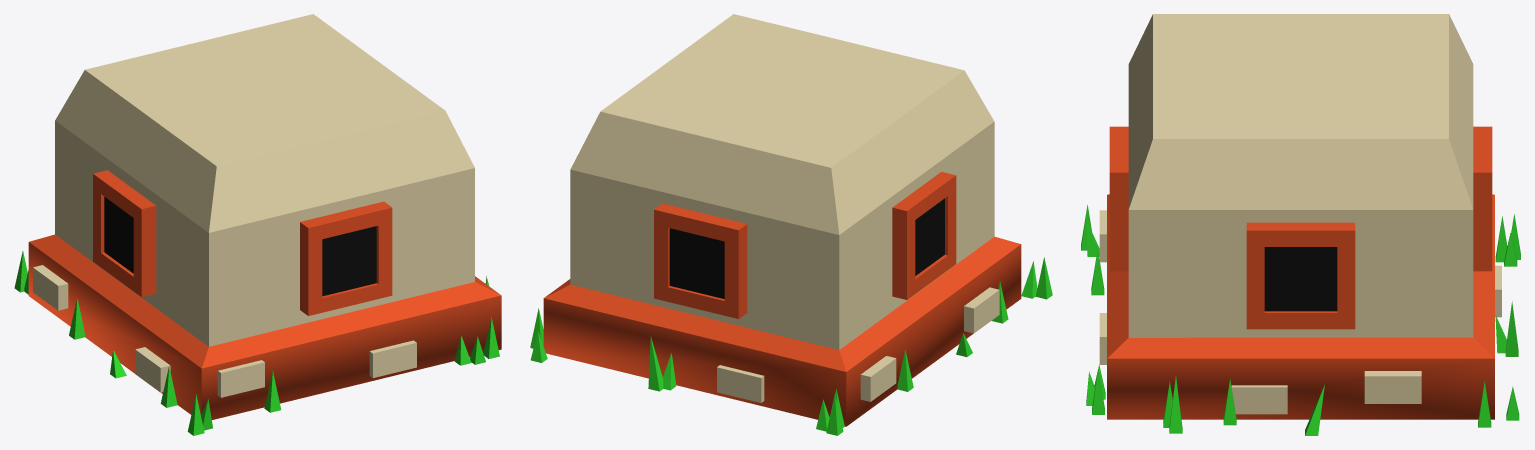
Rendered from tower base.fbx.
3 renders of one model, left to right at view 1: azimuth 30°, elevation 25°; view 2: azimuth 150°, elevation 25°; view 3: azimuth 270°, elevation 25°, orthographic. The views are drawn at different scales.
Parts seen in each view (by area): view 1: Turret Tower 01; view 2: Turret Tower 01; view 3: Turret Tower 01.
Boxes of the visible parts, bbox=[...] form: Turret Tower 01: bbox=[14, 14, 501, 435]; Turret Tower 01: bbox=[530, 14, 1052, 435]; Turret Tower 01: bbox=[1081, 14, 1520, 435].
Size of the model in its own units: 397 by 253 by 386.
